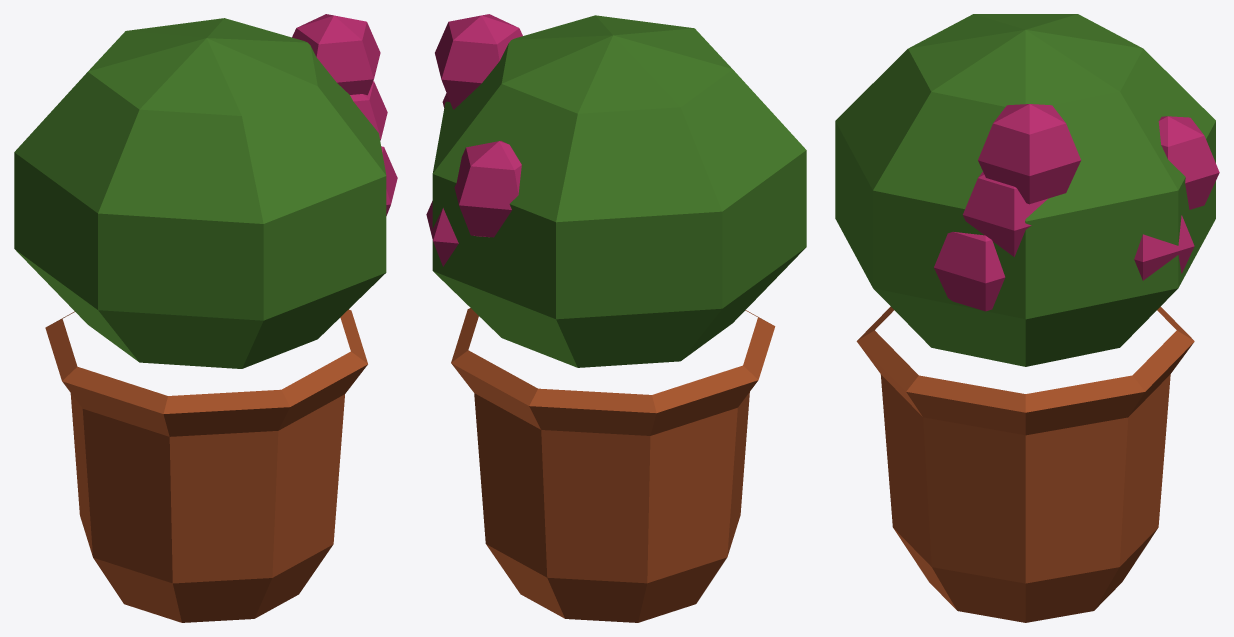
The model's file is pot_flowers_bougainvillea.glb.
3 renders of one model, left to right at view 1: azimuth 30°, elevation 25°; view 2: azimuth 150°, elevation 25°; view 3: azimuth 270°, elevation 25°, orthographic.
Parts seen in each view (by area): view 1: pot_flowers_bougainvillea; view 2: pot_flowers_bougainvillea; view 3: pot_flowers_bougainvillea.
Part boxes in pixels (left/top/right/bottom): pot_flowers_bougainvillea: left=14, top=14, right=397, bottom=622; pot_flowers_bougainvillea: left=426, top=14, right=806, bottom=622; pot_flowers_bougainvillea: left=835, top=14, right=1219, bottom=622.
Bounding box in the file's own units: 0.6313 × 1.01 × 0.6364.
